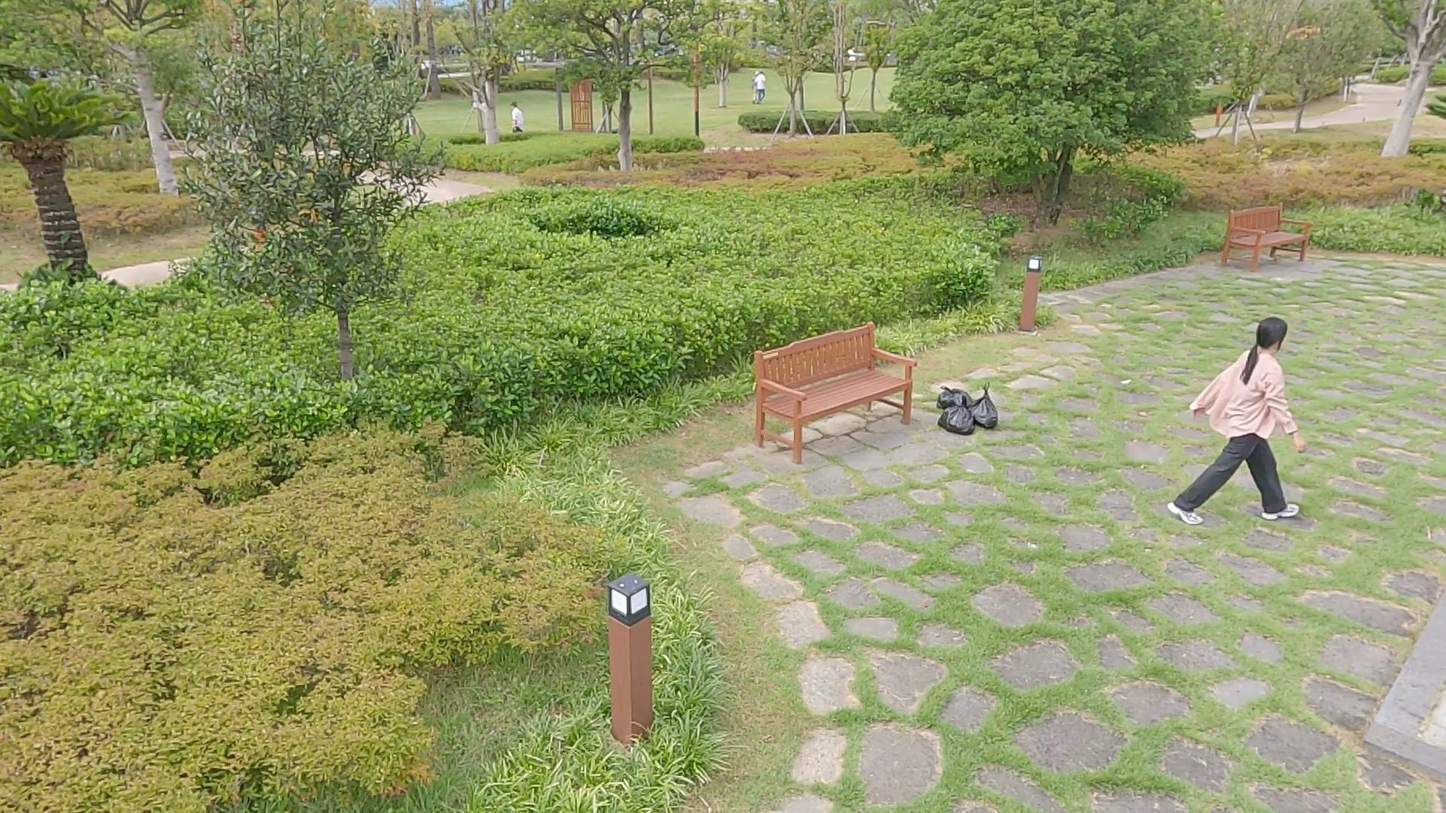person: (1165, 318, 1310, 525)
trash: (965, 382, 998, 430), (938, 396, 975, 436), (935, 385, 974, 409)
